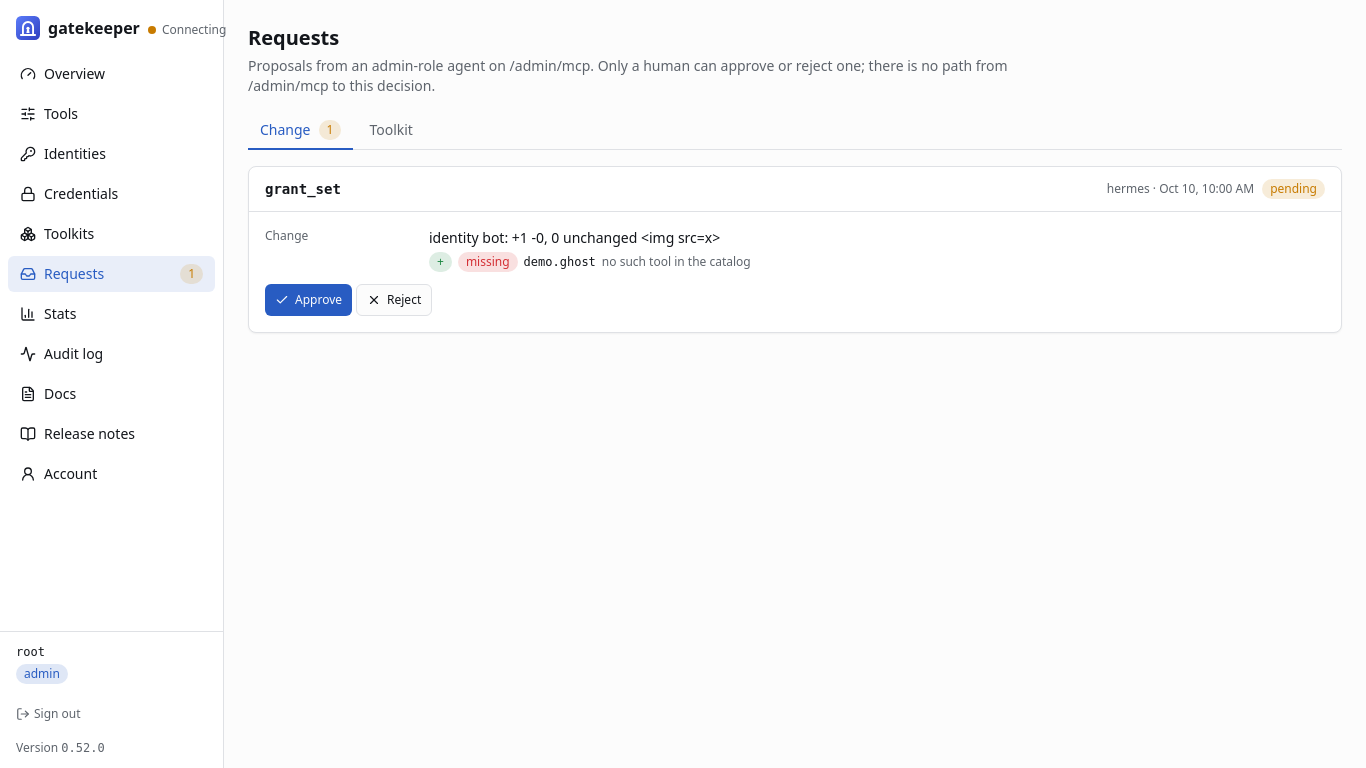
Test case: requests › renders a proposal's review as text and approves it with CSRF
Expected: the text "identity bot: +1 -0, 0 unchanged <img src=x>" is shown, [429, 228, 720, 247]
Expected: the text "no such tool in the catalog" is shown, [602, 254, 751, 270]
# Granting a tool the catalog lacks is not a one-click approve.
What coordinates should you click on to do the following:
click the button "Approve"
I would click on:
 (308, 300)
Its box is [265, 284, 352, 316].
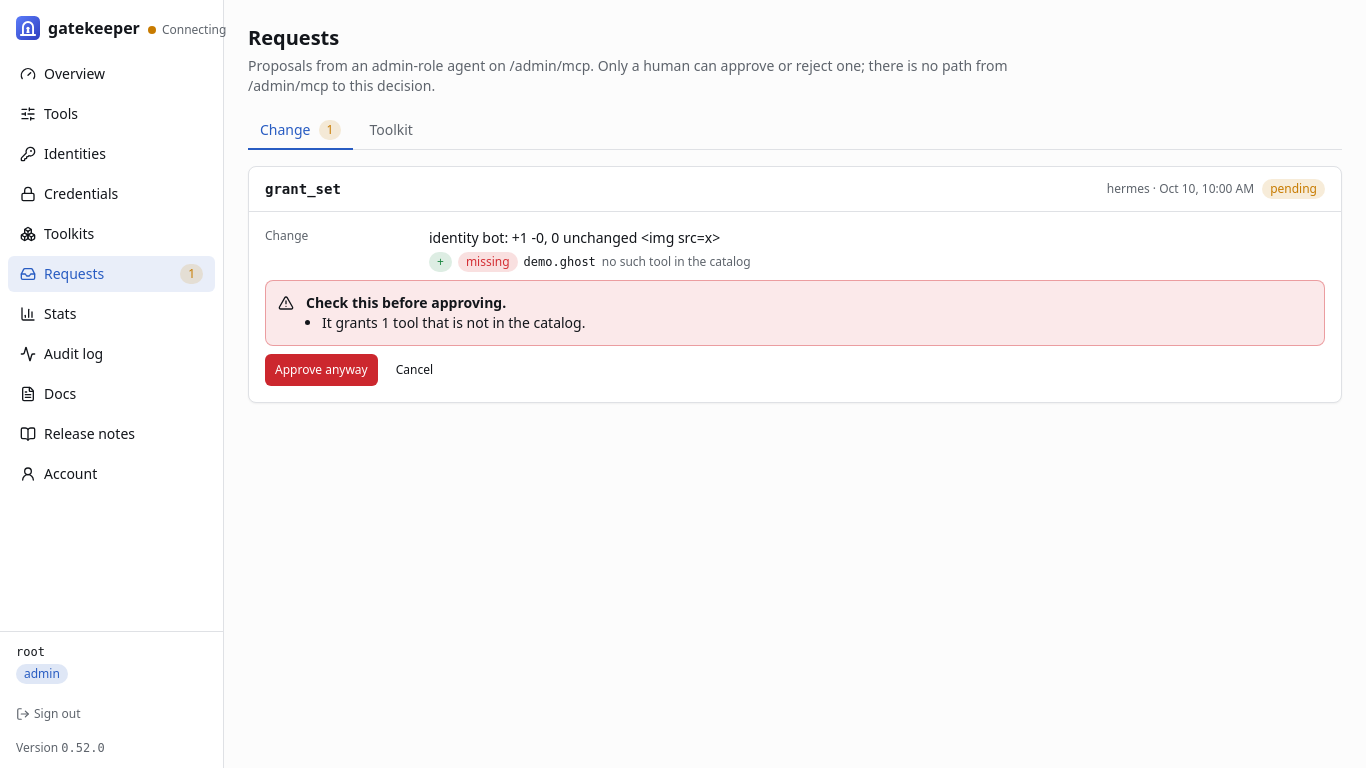
Expected: the list item "It grants 1 tool that is not in the catalog." is shown, [322, 313, 586, 333]
What coordinates should you click on to do the following:
click the button "Approve anyway"
I would click on:
 (321, 370)
Its box is [265, 354, 378, 386].
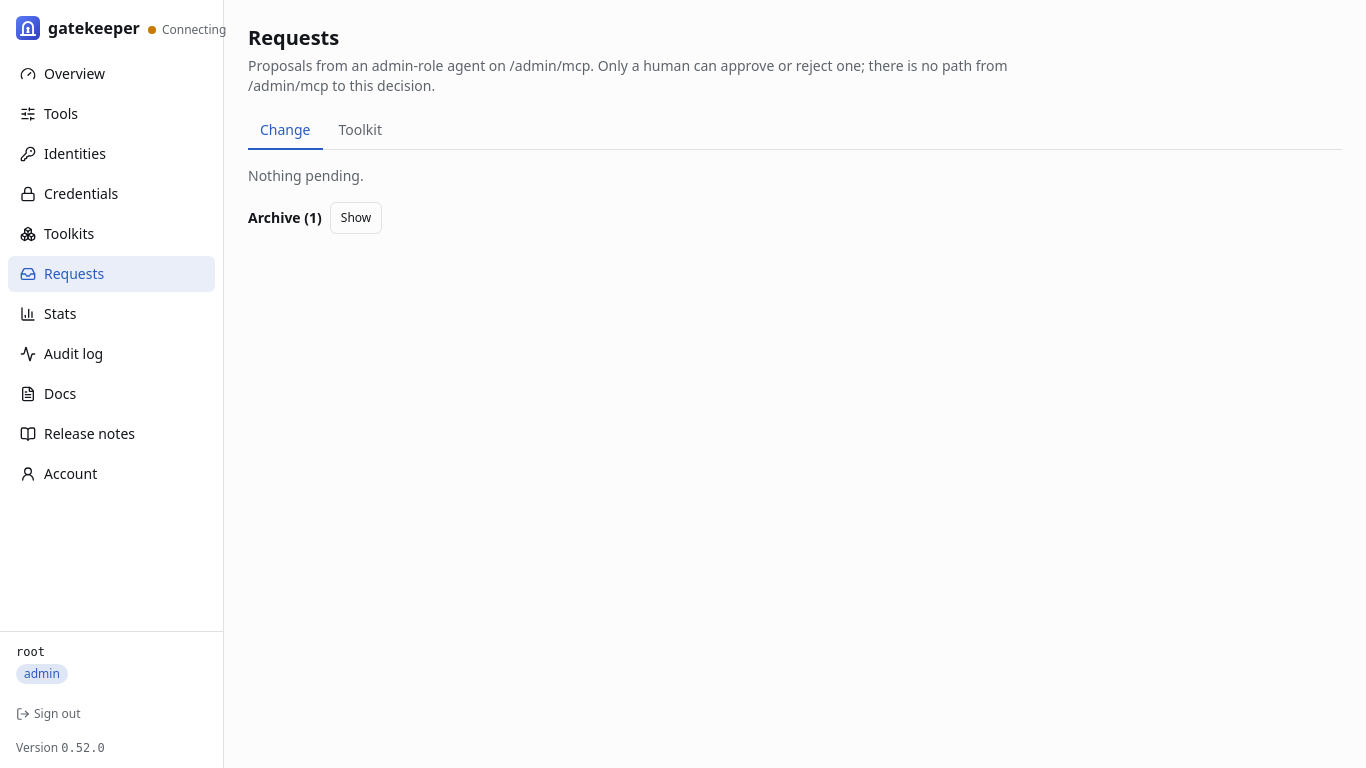
Expected: the text "Nothing pending." is shown, [248, 166, 364, 185]
Expected: the heading "Archive (1)" is shown, [248, 208, 322, 228]
